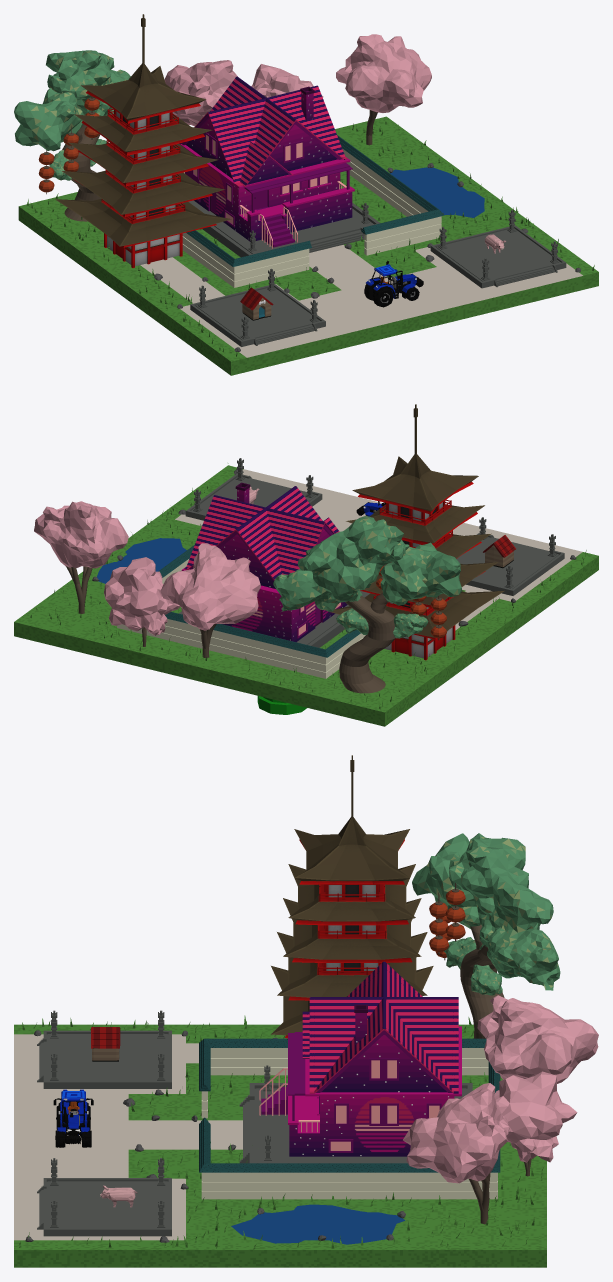
3 renders of one model, top to bottom at view 1: azimuth 30°, elevation 25°; view 2: azimuth 150°, elevation 25°; view 3: azimuth 270°, elevation 25°, orthographic. The views are drawn at different scales.
Parts seen in each view (by area): view 1: Cube.005, Cube.156, VEHICLES_TRACTOR, OBJRANDOM_DOGHOUSE; view 2: Cube.005, Cube.156, OBJRANDOM_DOGHOUSE, UNDERGROUND_PIPES; view 3: Cube.005, Cube.156, VEHICLES_TRACTOR, OBJRANDOM_DOGHOUSE.
Boxes of the visible parts, x1=… form: Cube.005: x1=14, y1=14, x2=598, y2=375; Cube.156: x1=179, y1=76, x2=354, y2=248; VEHICLES_TRACTOR: x1=364, y1=260, x2=423, y2=307; OBJRANDOM_DOGHOUSE: x1=240, y1=287, x2=273, y2=320; Cube.005: x1=14, y1=404, x2=598, y2=726; Cube.156: x1=181, y1=482, x2=347, y2=642; OBJRANDOM_DOGHOUSE: x1=483, y1=535, x2=515, y2=568; UNDERGROUND_PIPES: x1=257, y1=696, x2=306, y2=714; Cube.005: x1=14, y1=755, x2=598, y2=1267; Cube.156: x1=259, y1=961, x2=461, y2=1156; VEHICLES_TRACTOR: x1=53, y1=1089, x2=93, y2=1147; OBJRANDOM_DOGHOUSE: x1=90, y1=1027, x2=120, y2=1061.
Bounding box in the file's own units: 4528 × 3273 × 4389.
Materials: 41 (7 with a texture image).
